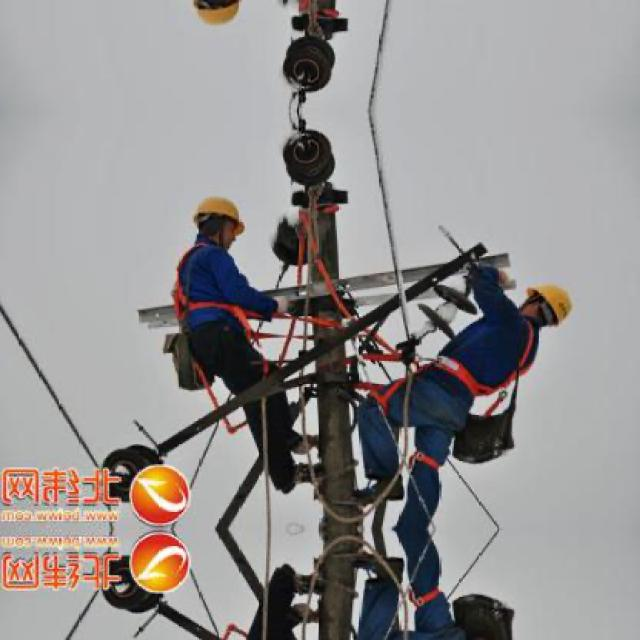con casco: (176, 195, 262, 264), (496, 268, 580, 336)
